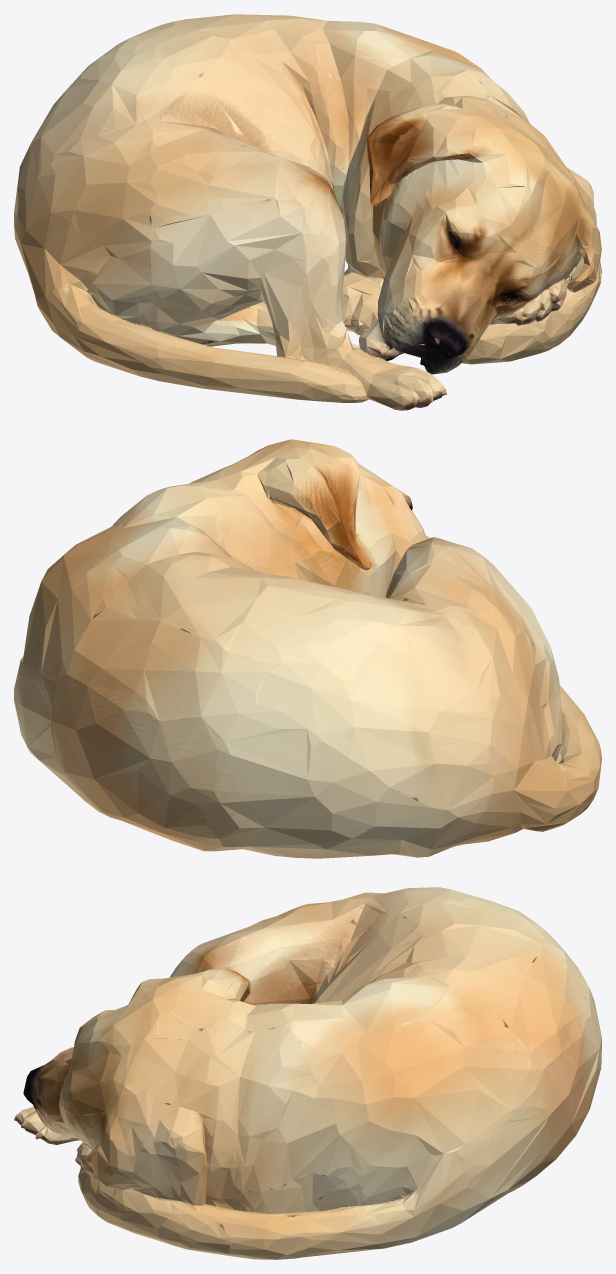
3 renders of one model, top to bottom at view 1: azimuth 30°, elevation 25°; view 2: azimuth 150°, elevation 25°; view 3: azimuth 270°, elevation 25°, orthographic. The views are drawn at different scales.
Size of the model in its own units: 1.81 by 0.7591 by 1.9.
Materials: 1 (1 with a texture image).
